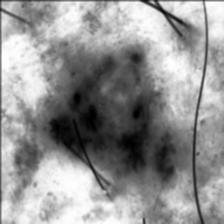Potentially Malignant Skin Tumors: (48, 59, 174, 181)
